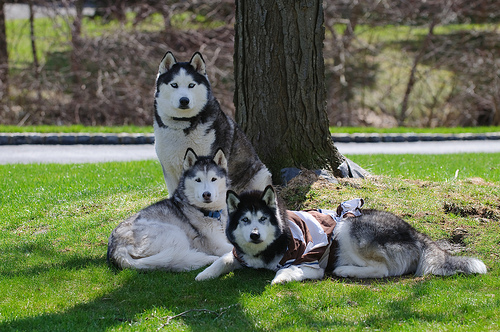dog: (195, 190, 487, 281), (106, 150, 235, 285), (155, 53, 273, 194)
